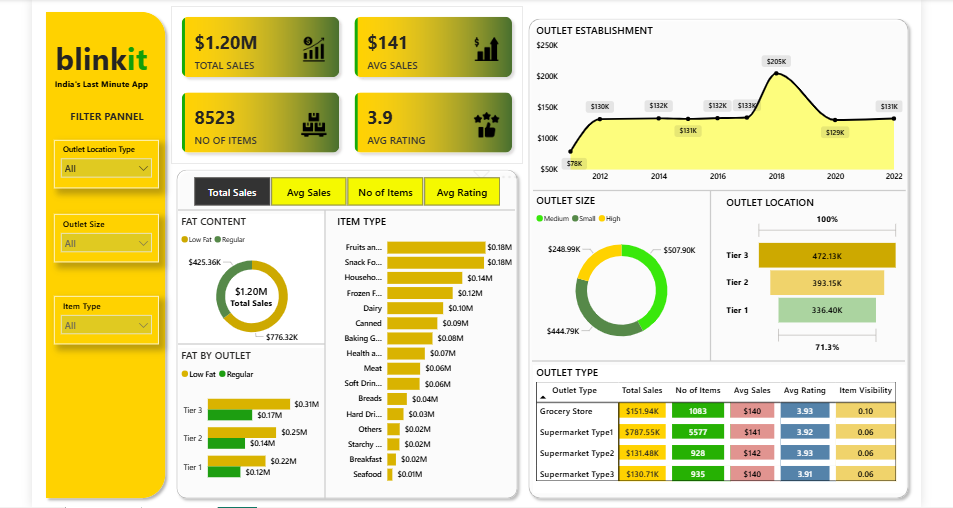

The dashboard page shown, as its layout file describes it:
{"tool":"powerbi","page":{"name":"Page 1","canvas":[1400,800],"ordinal":0},"visuals":[{"type":"shape","box":[12.6,11,206.3,784.3],"z":0},{"type":"textbox","box":[18.9,55.1,181.1,94.5],"z":1000},{"type":"cardVisual","fields":{"Data":["BlinkIT Grocery Data.Total Sales","BlinkIT Grocery Data.Avg Sales","BlinkIT Grocery Data.No of Items","BlinkIT Grocery Data.Avg Rating"]},"box":[218.9,11,554.3,248.8],"z":2000},{"type":"shape","box":[218.9,259.8,554.3,535.4],"z":3000},{"type":"donutChart","title":"FAT CONTENT","fields":{"Y":["BlinkIT Grocery Data.Total Sales"],"Category":["BlinkIT Grocery Data.Item Fat Content"]},"box":[229.9,338.6,233.1,211],"z":4000},{"type":"slicer","fields":{"Values":["Metrics.Metrics"]},"box":[229.9,274,530.7,58.3],"z":5000},{"type":"cardVisual","fields":{"Data":["BlinkIT Grocery Data.Total Sales"]},"box":[292.9,431.5,105.5,72.4],"z":6000},{"type":"clusteredBarChart","title":"FAT BY OUTLET","fields":{"Y":["BlinkIT Grocery Data.Total Sales"],"Category":["BlinkIT Grocery Data.Outlet Location Type"],"Series":["BlinkIT Grocery Data.Item Fat Content"]},"box":[229.9,549.6,226.8,228.3],"z":7000},{"type":"shape","box":[229.9,530.7,231.5,25.2],"z":8000},{"type":"shape","box":[448.8,332.3,25.2,456.7],"z":9000},{"type":"barChart","title":"ITEM TYPE","fields":{"Y":["BlinkIT Grocery Data.Total Sales"],"Category":["BlinkIT Grocery Data.Item Type"]},"box":[475.6,338.6,285,434.6],"z":10000},{"type":"shape","box":[773.2,22,615.7,773.2],"z":11000},{"type":"lineChart","title":"OUTLET ESTABLISHMENT","fields":{"Y":["BlinkIT Grocery Data.Total Sales"],"Category":["BlinkIT Grocery Data.Outlet Establishment Year"]},"box":[789,37.8,587.4,259.8],"z":12000},{"type":"shape","box":[789,289.8,587.4,23.6],"z":13000},{"type":"donutChart","title":"OUTLET SIZE","fields":{"Y":["BlinkIT Grocery Data.Total Sales"],"Category":["BlinkIT Grocery Data.Outlet Size"]},"box":[789,305.5,278.7,258.3],"z":14000},{"type":"shape","box":[1055.1,302.4,26.8,267.7],"z":15000},{"type":"funnel","title":"OUTLET LOCATION","fields":{"Y":["Sum(BlinkIT Grocery Data.Sales)"],"Category":["BlinkIT Grocery Data.Outlet Location Type"]},"box":[1088.2,308.7,281.9,255.1],"z":16000},{"type":"shape","box":[787.4,563.8,587.4,12.6],"z":17000},{"type":"pivotTable","title":"OUTLET TYPE","fields":{"Values":["BlinkIT Grocery Data.Total Sales","BlinkIT Grocery Data.No of Items","BlinkIT Grocery Data.Avg Sales","BlinkIT Grocery Data.Avg Rating","Avg(BlinkIT Grocery Data.Item Visibility)"],"Rows":["BlinkIT Grocery Data.Outlet Type"]},"box":[789,576.4,587.4,201.6],"z":18000},{"type":"slicer","fields":{"Values":["BlinkIT Grocery Data.Outlet Location Type"]},"box":[34.6,222,165.4,75.6],"z":19000},{"type":"slicer","fields":{"Values":["BlinkIT Grocery Data.Outlet Size"]},"box":[34.6,338.6,165.4,75.6],"z":20000},{"type":"slicer","fields":{"Values":["BlinkIT Grocery Data.Item Type"]},"box":[34.6,467.7,165.4,75.6],"z":21000},{"type":"textbox","box":[42.5,168.5,151.2,39.4],"z":22000},{"type":"shape","box":[229.9,326,530.7,12.6],"z":23000}]}

Visuals, with their boxes on the page's 1400x800 design canvas (x1, y1, x2, y2). These are canvas units, not pixel positions in the 953x508 screenshot, which may show the page scaled, cropped or inside an application window:
shape: BBox(13, 11, 219, 795)
textbox: BBox(19, 55, 200, 150)
cardVisual - BlinkIT Grocery Data.Total Sales x BlinkIT Grocery Data.Avg Sales: BBox(219, 11, 773, 260)
shape: BBox(219, 260, 773, 795)
"FAT CONTENT" donutChart: BBox(230, 339, 463, 550)
slicer - Metrics.Metrics: BBox(230, 274, 761, 332)
cardVisual - BlinkIT Grocery Data.Total Sales: BBox(293, 432, 398, 504)
"FAT BY OUTLET" clusteredBarChart: BBox(230, 550, 457, 778)
shape: BBox(230, 531, 461, 556)
shape: BBox(449, 332, 474, 789)
"ITEM TYPE" barChart: BBox(476, 339, 761, 773)
shape: BBox(773, 22, 1389, 795)
"OUTLET ESTABLISHMENT" lineChart: BBox(789, 38, 1376, 298)
shape: BBox(789, 290, 1376, 313)
"OUTLET SIZE" donutChart: BBox(789, 306, 1068, 564)
shape: BBox(1055, 302, 1082, 570)
"OUTLET LOCATION" funnel: BBox(1088, 309, 1370, 564)
shape: BBox(787, 564, 1375, 576)
"OUTLET TYPE" pivotTable: BBox(789, 576, 1376, 778)
slicer - BlinkIT Grocery Data.Outlet Location Type: BBox(35, 222, 200, 298)
slicer - BlinkIT Grocery Data.Outlet Size: BBox(35, 339, 200, 414)
slicer - BlinkIT Grocery Data.Item Type: BBox(35, 468, 200, 543)
textbox: BBox(42, 168, 194, 208)
shape: BBox(230, 326, 761, 339)
